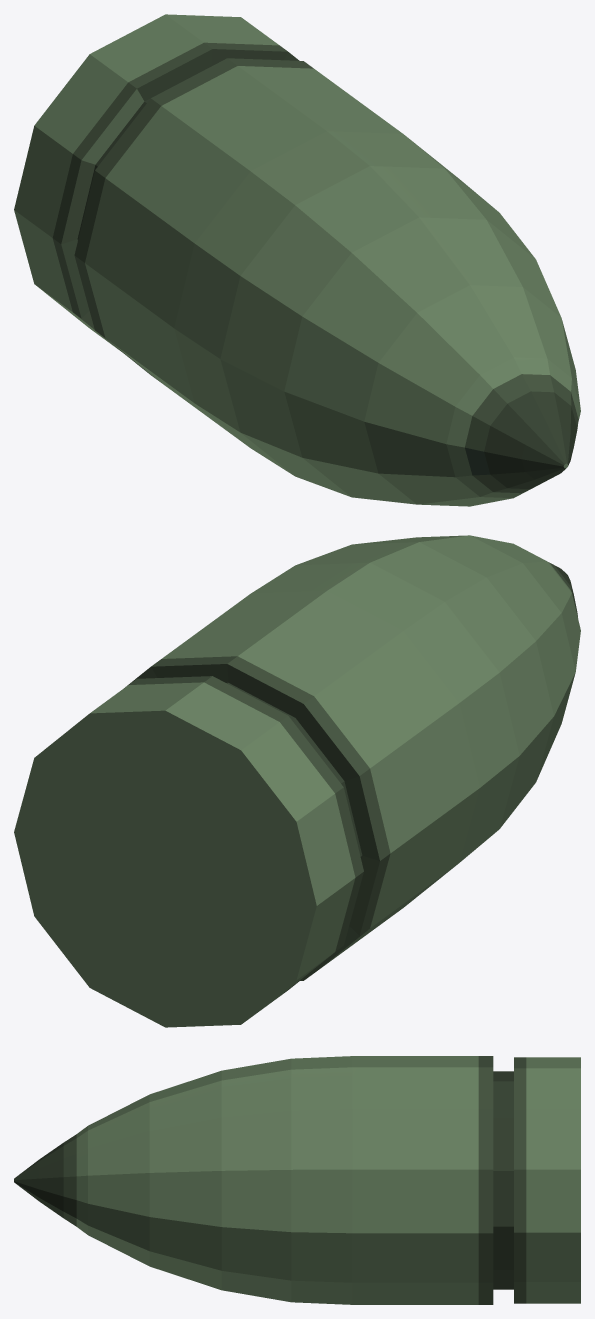
The model's file is tankfüzesi.fbx.
The picture shows the model from 3 angles, top to bottom: view 1: azimuth 30°, elevation 25°; view 2: azimuth 150°, elevation 25°; view 3: azimuth 270°, elevation 25°; orthographic projection. The views are drawn at different scales.
Visible parts, largest first — view 1: Cylinder.043; view 2: Cylinder.043; view 3: Cylinder.043.
Boxes of the visible parts, x1,y1,x2,y2 form: Cylinder.043: (14, 14, 580, 506); Cylinder.043: (14, 535, 580, 1027); Cylinder.043: (14, 1056, 580, 1304).
Size of the model in its own units: 200 by 454 by 200.
